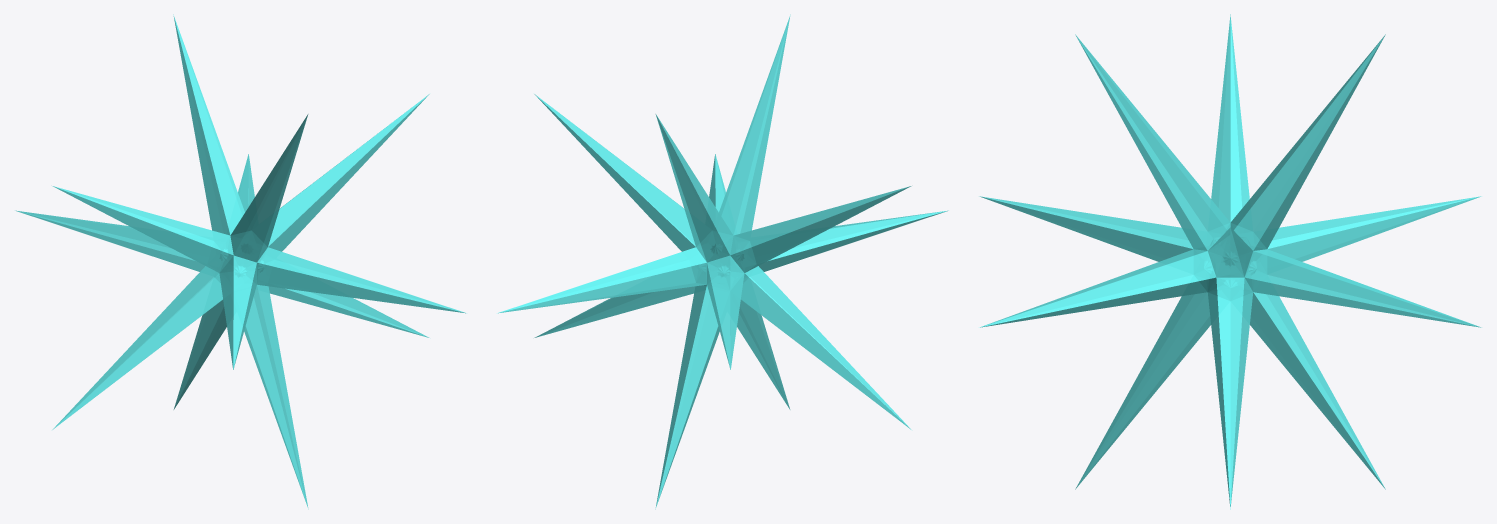
Rendered from GreatPentakisDodecahedron.obj.
3 renders of one model, left to right at view 1: azimuth 30°, elevation 25°; view 2: azimuth 150°, elevation 25°; view 3: azimuth 270°, elevation 25°, orthographic. The views are drawn at different scales.
Size of the model in its own units: 13.09 by 13.09 by 13.09.
